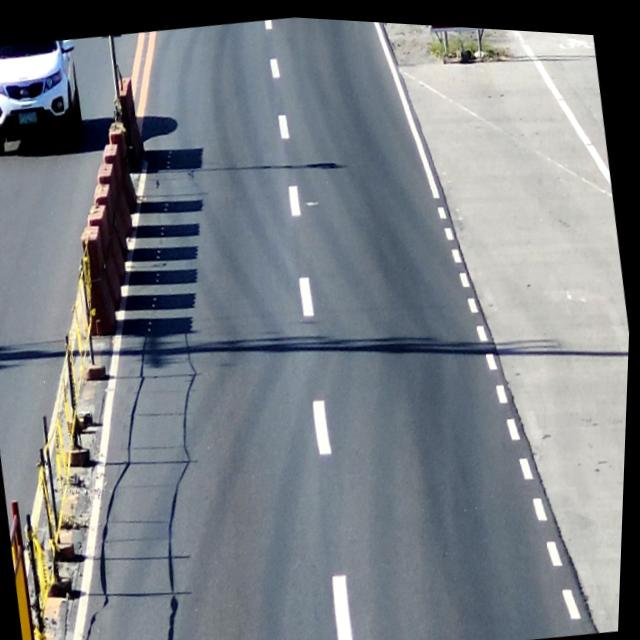License-Plate: (17, 103, 44, 131)
